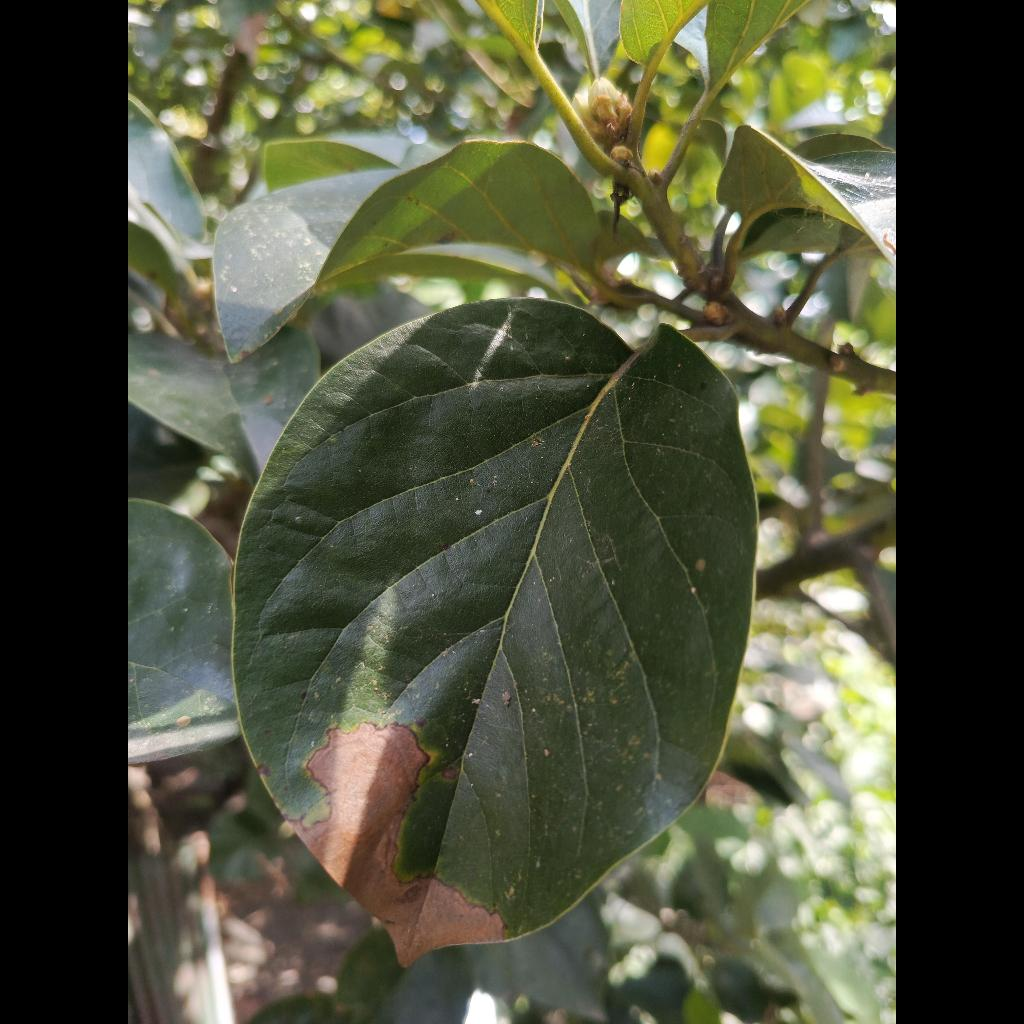antracnosis_hoja: (235, 299, 757, 963)
